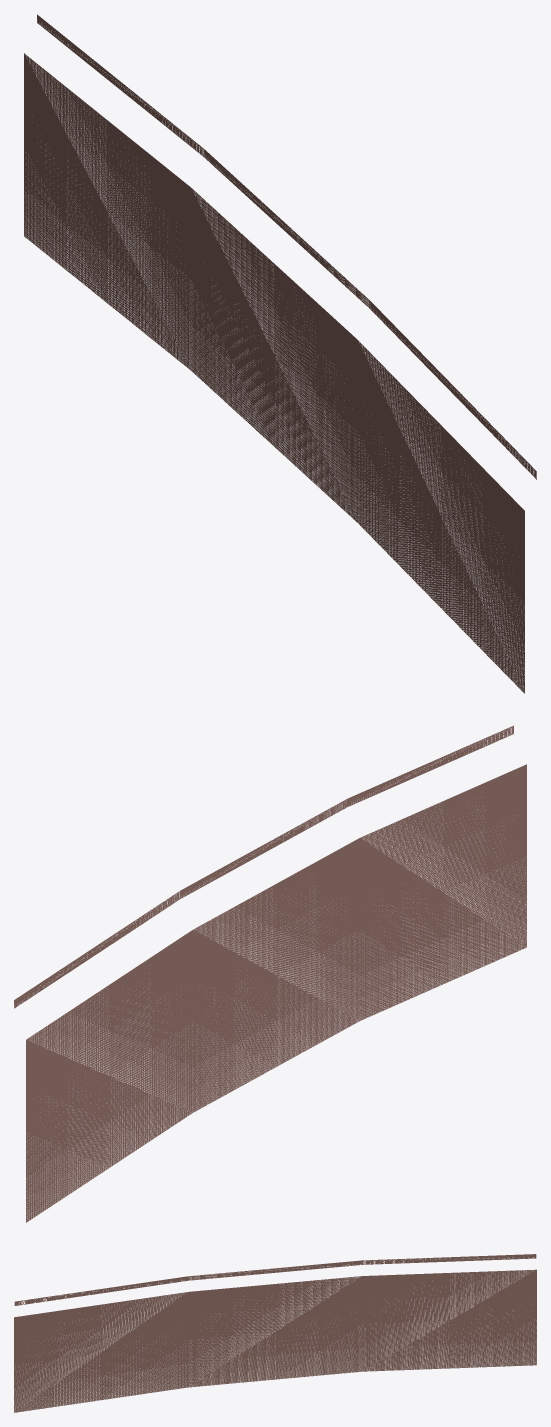
The model's file is SW_ENV_WalledRiserEnd_WireFence_Collsion.fbx.
3 views of the same model, one above another, from view 1: azimuth 30°, elevation 25°; view 2: azimuth 150°, elevation 25°; view 3: azimuth 270°, elevation 25° (orthographic). The views are drawn at different scales.
Visible parts, largest first — view 1: SW_ENV_WalledRiserEnd_WireFence_Collsion; view 2: SW_ENV_WalledRiserEnd_WireFence_Collsion; view 3: SW_ENV_WalledRiserEnd_WireFence_Collsion.
Part boxes in pixels (x1,y1,x2,y2): SW_ENV_WalledRiserEnd_WireFence_Collsion: (24,14,536,693); SW_ENV_WalledRiserEnd_WireFence_Collsion: (14,725,526,1222); SW_ENV_WalledRiserEnd_WireFence_Collsion: (14,1254,536,1412).
Bounding box in the file's own units: 25.55 × 339 × 991.
